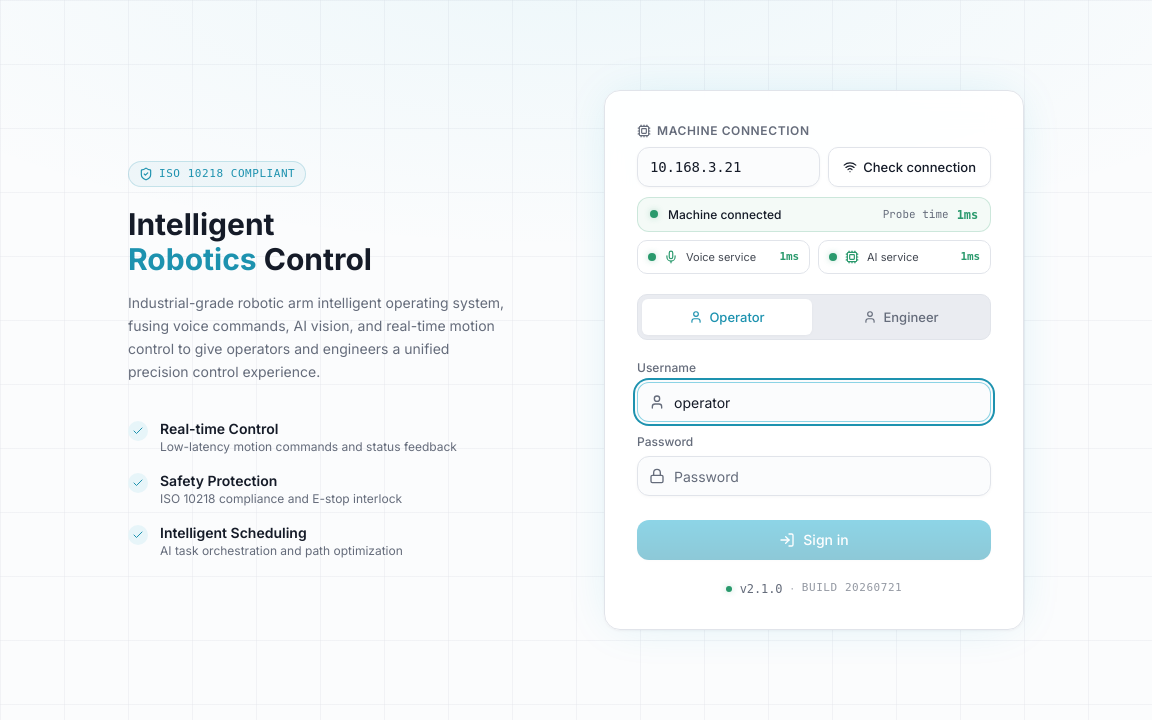
App layout › engineer role renders the same shell incl RobotSidePanel
This screenshot has width=1152, height=720.
Replace the text in the field with placeholder "Username" with "engineer" at (814, 402), box [637,382,991,422]
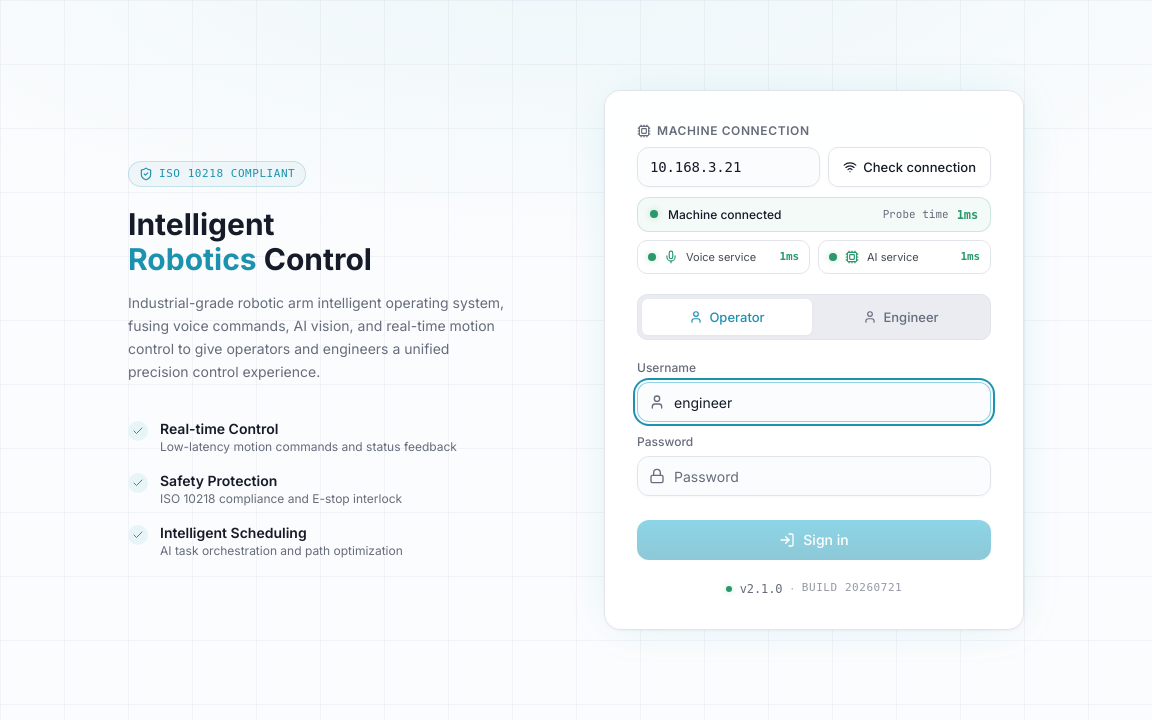
Type "pass" into the password field with placeholder "Password" at (814, 476), box [637,456,991,496]
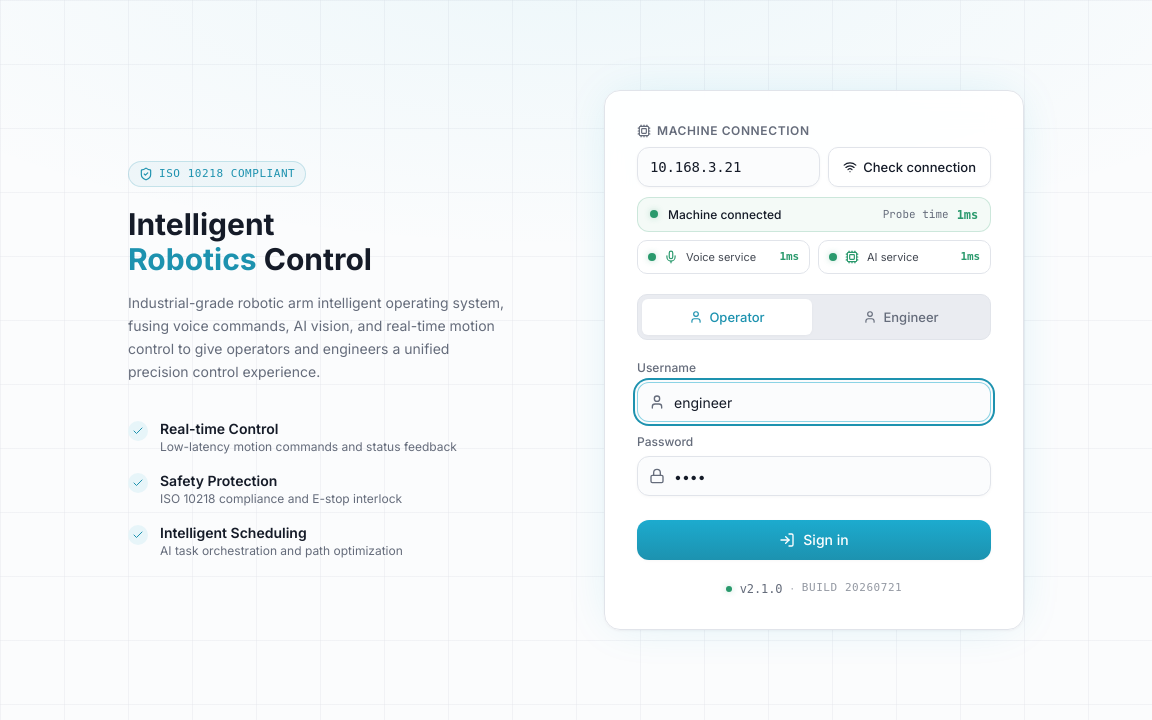
Click the submit button at (814, 540), box [637,520,991,560]
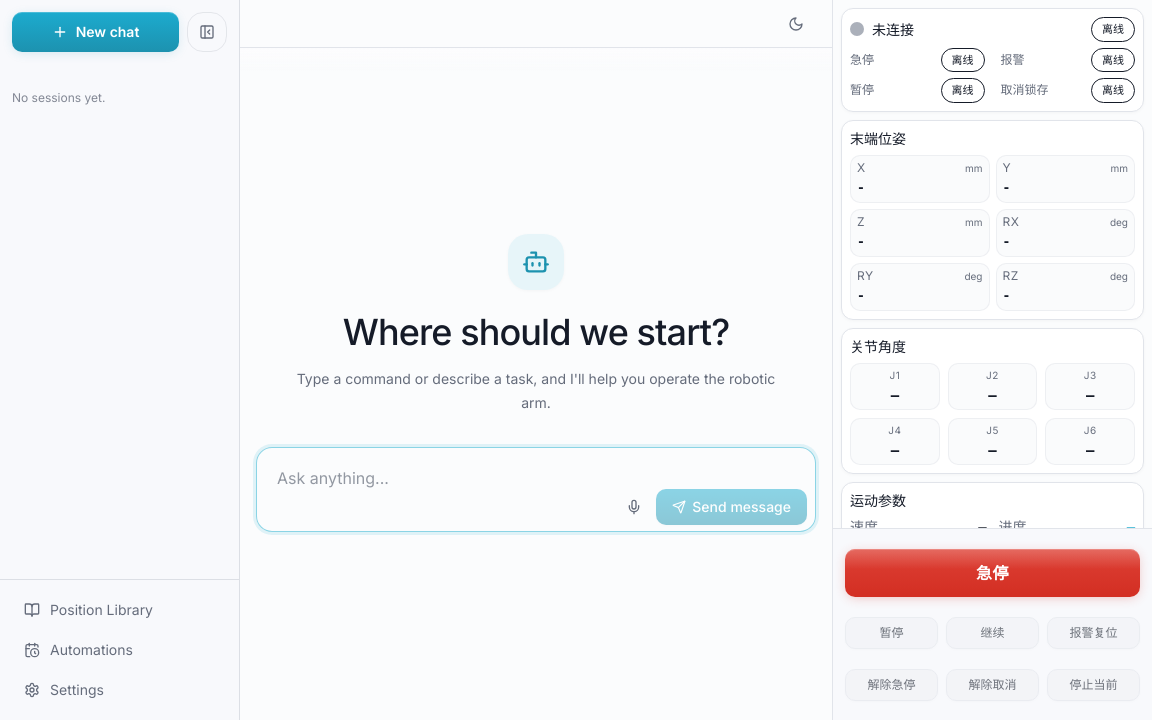
Now the heading "末端位姿" is shown, box [850,128,906,148]
